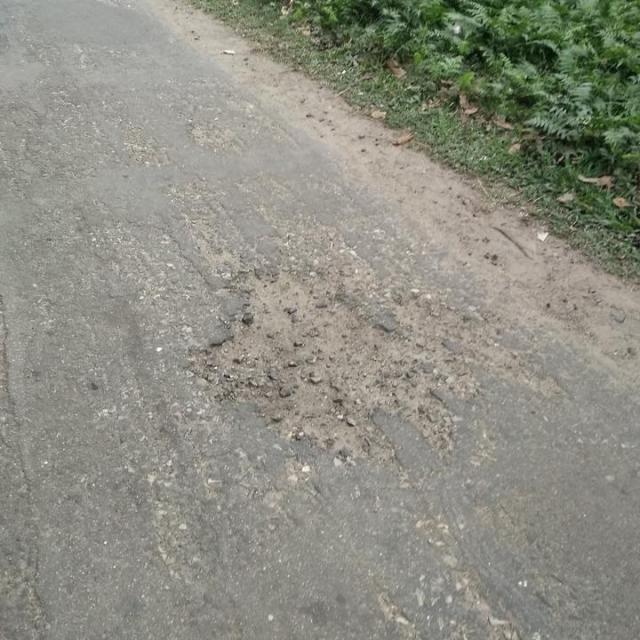pothole: (198, 262, 423, 449)
